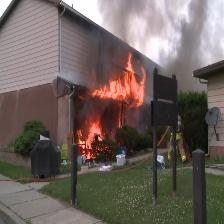fire: (85, 0, 224, 84), (66, 58, 158, 164)
